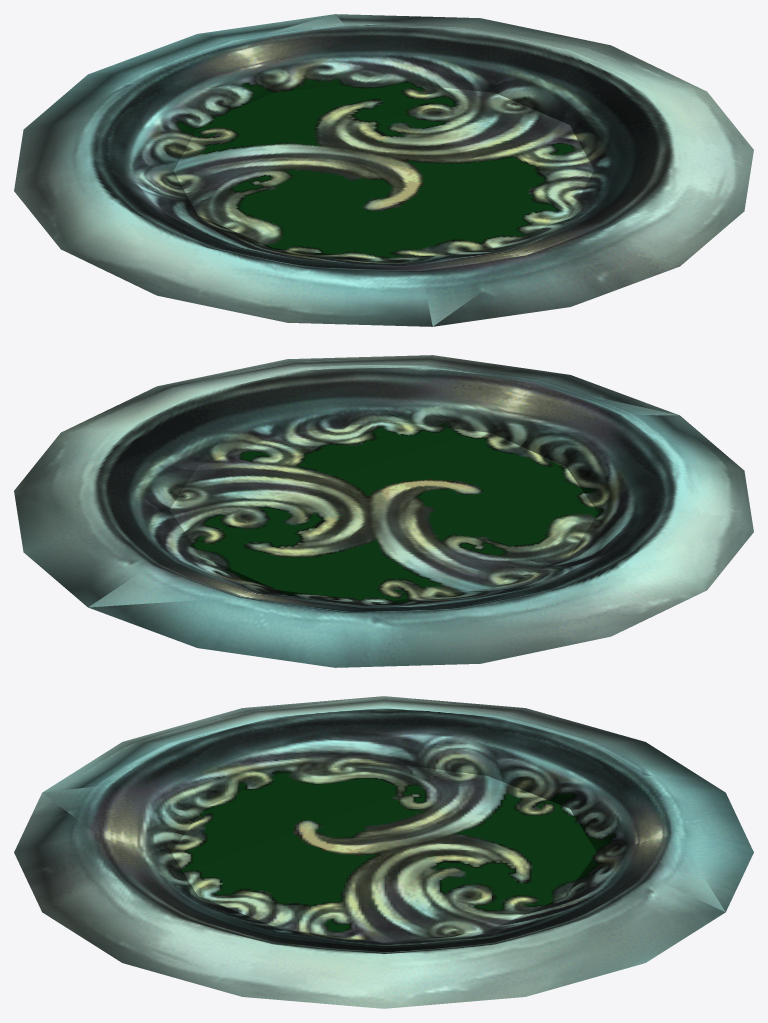
3 renders of one model, top to bottom at view 1: azimuth 30°, elevation 25°; view 2: azimuth 150°, elevation 25°; view 3: azimuth 270°, elevation 25°, orthographic.
Visible parts, largest first — view 1: wpnFR04; view 2: wpnFR04; view 3: wpnFR04.
Boxes of the visible parts, x1=… form: wpnFR04: x1=14, y1=14, x2=753, y2=326; wpnFR04: x1=14, y1=355, x2=753, y2=667; wpnFR04: x1=14, y1=696, x2=753, y2=1008.
Size of the model in its own units: 10.4 by 0.652 by 10.4.
1 material, 1 textured.
